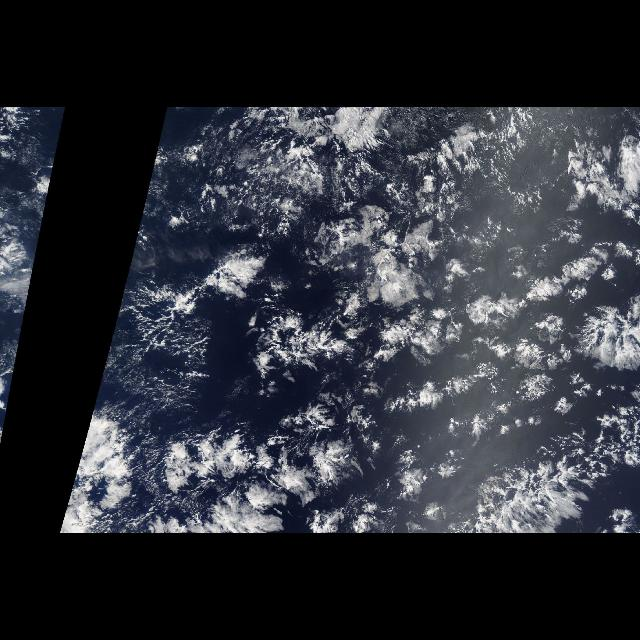Fish: (322, 388, 640, 532)
